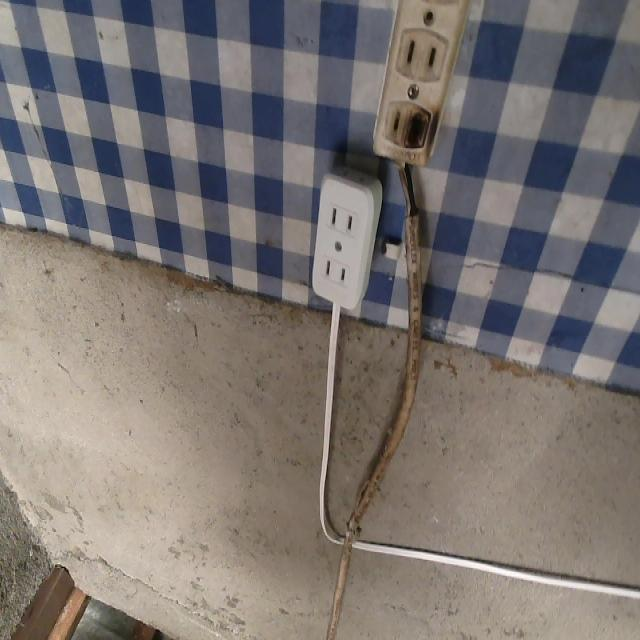-: (402, 99, 430, 154)
